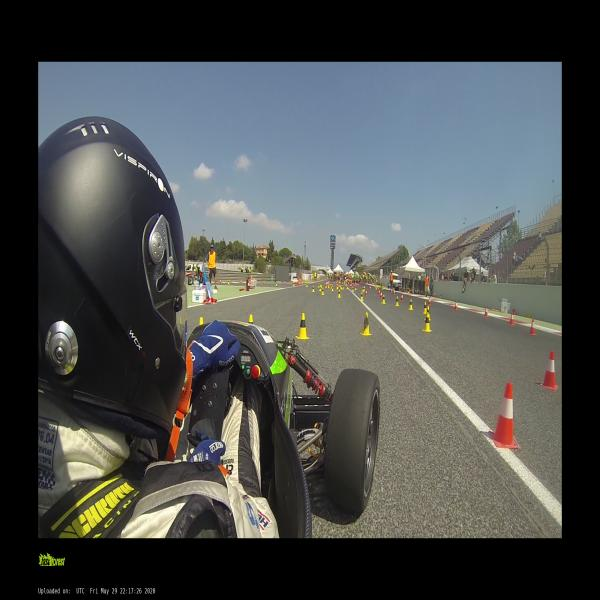orange_cone: (488, 382, 518, 448), (540, 351, 558, 390), (528, 318, 536, 335), (509, 312, 514, 326), (483, 306, 488, 317), (454, 301, 458, 310), (400, 294, 404, 301), (380, 291, 383, 299), (364, 290, 368, 296), (428, 298, 431, 306), (392, 290, 396, 296), (377, 290, 381, 296), (433, 292, 436, 297), (262, 280, 265, 284), (239, 280, 242, 284), (390, 288, 392, 293)
unknown_cone: (270, 274, 274, 283)
yellow_cone: (296, 313, 309, 339), (360, 312, 372, 336), (422, 312, 432, 332), (426, 306, 430, 320), (408, 299, 413, 310), (381, 294, 386, 304), (394, 296, 399, 306), (248, 314, 253, 323), (423, 302, 427, 313), (199, 317, 204, 325), (360, 292, 364, 300), (337, 290, 341, 298), (321, 288, 325, 295), (311, 286, 315, 292), (361, 286, 364, 292), (275, 281, 278, 286), (331, 286, 334, 291), (439, 293, 442, 298), (319, 286, 321, 292), (351, 287, 354, 291), (354, 285, 356, 290), (325, 284, 327, 288), (306, 283, 308, 287), (228, 280, 230, 284), (292, 282, 294, 286)
